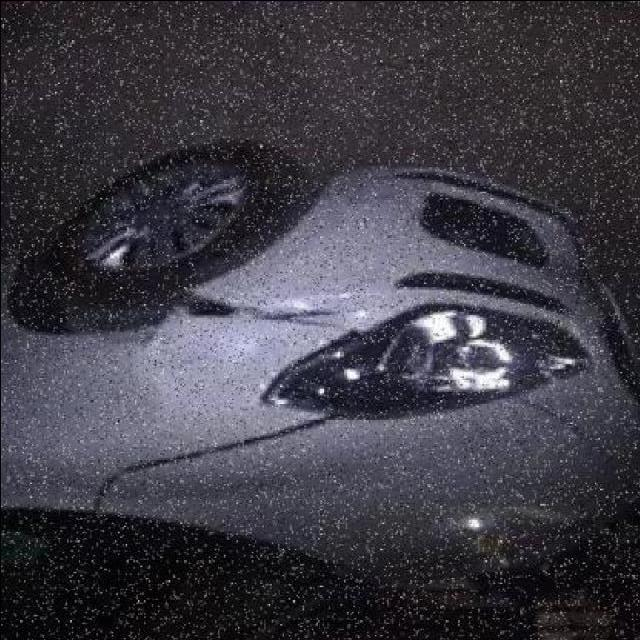front-bumper-dent: (149, 150, 436, 343)
